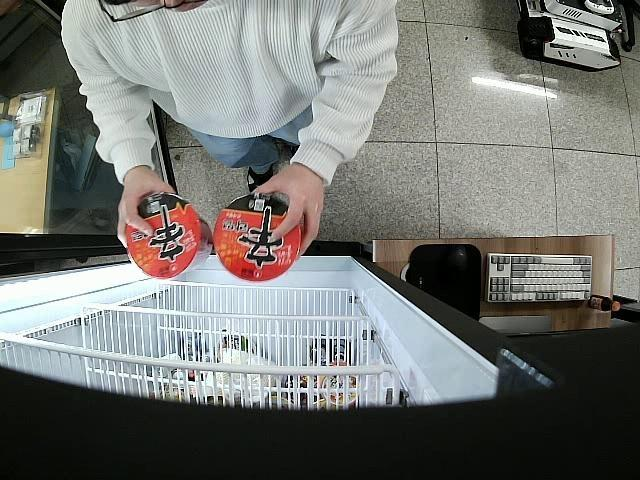01_ShinRamen_L: (125, 194, 214, 280), (214, 195, 301, 282)
